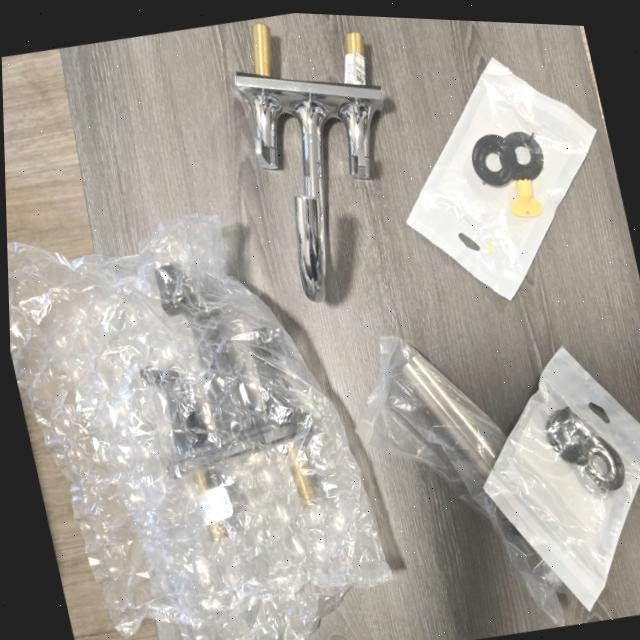10: (235, 23, 383, 302)
11o: (357, 336, 570, 624)
12: (407, 58, 596, 299)
13: (484, 347, 640, 609)
9c: (7, 215, 392, 640)
